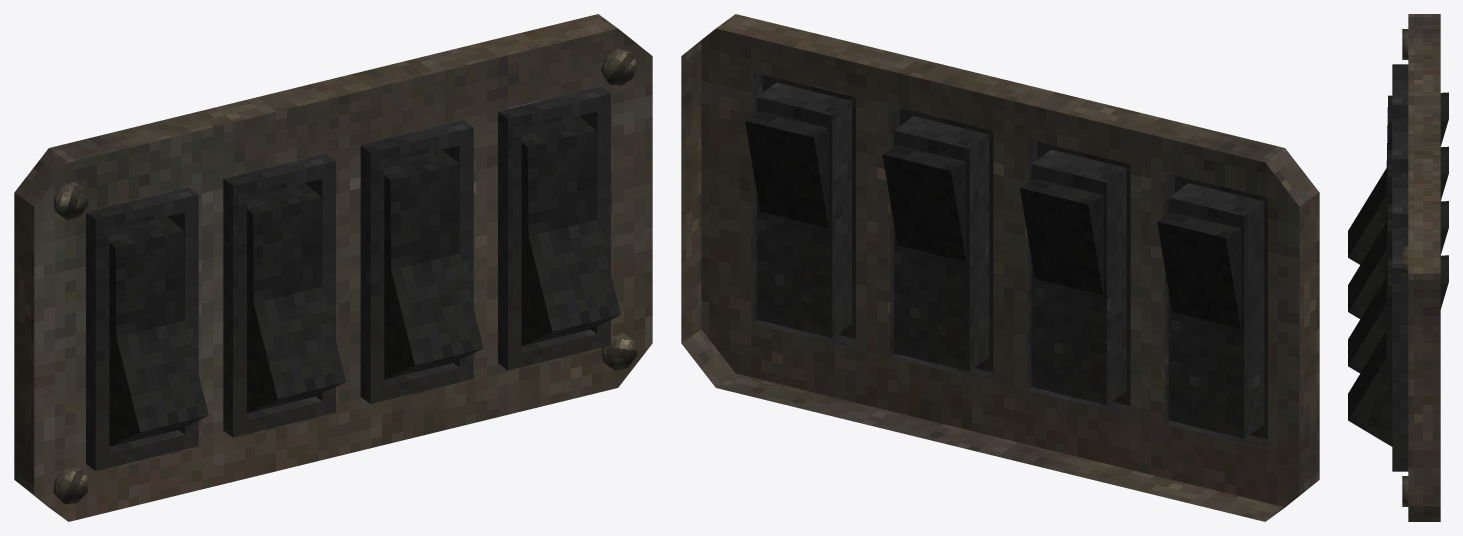
The model's file is buttons_etx_black_2.glb.
3 views of the same model, side by side, from view 1: azimuth 30°, elevation 25°; view 2: azimuth 150°, elevation 25°; view 3: azimuth 270°, elevation 25° (orthographic). The views are drawn at different scales.
Visible parts, largest first — view 1: buttons_etx_black_2; view 2: buttons_etx_black_2; view 3: buttons_etx_black_2.
Part boxes in pixels (x1,y1,x2,y2): buttons_etx_black_2: (14,14,652,521); buttons_etx_black_2: (681,14,1319,521); buttons_etx_black_2: (1348,14,1448,521).
Size of the model in its own units: 0.324 by 0.18 by 0.0565.
1 material, 1 textured.
